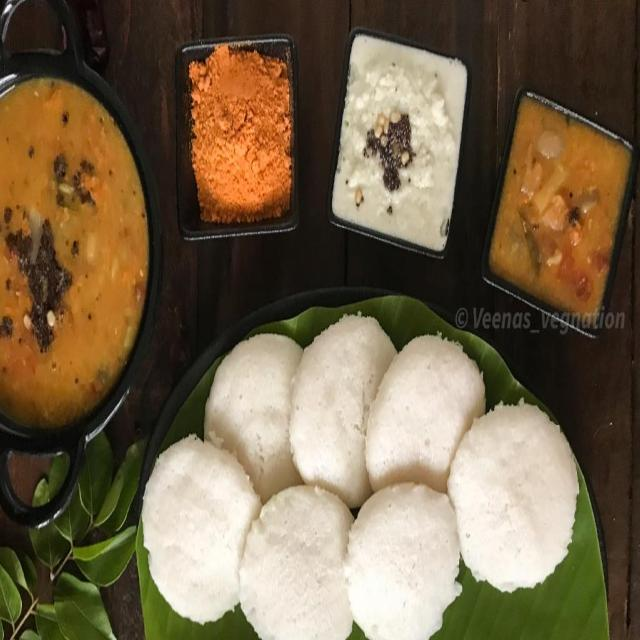chutney: (333, 19, 460, 258)
idli: (448, 394, 581, 596), (287, 309, 412, 512), (365, 332, 494, 520), (136, 431, 258, 623), (237, 472, 365, 639), (199, 330, 311, 511), (343, 473, 463, 639)
